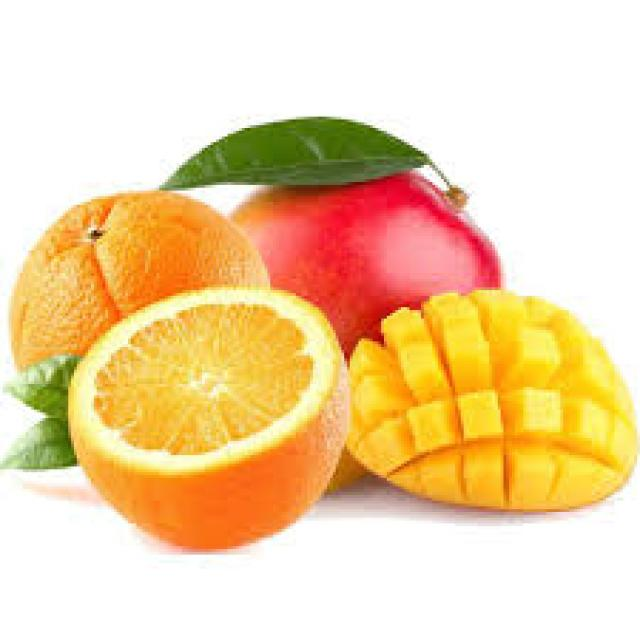Mango: (345, 284, 635, 514), (227, 164, 511, 364)
Orange: (66, 282, 353, 552), (9, 191, 270, 389)
